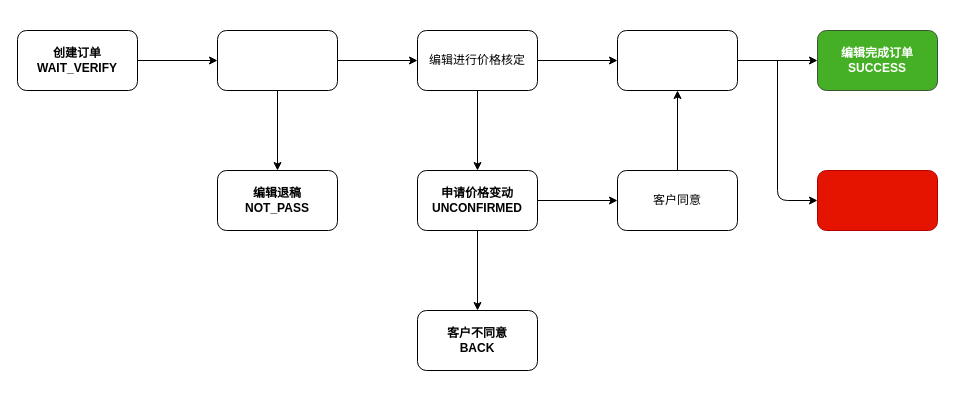
The diagram is 955 pixels wide and 400 high, and some of its shapes have lost their labels. Here are the shapes that lost their labels. From the top down, the centre of each, then its label:
At point 277,60: "编辑核定内容".
At point 677,60: "编辑进行订单处理 WAIT_PUBLISH".
At point 877,200: "编辑未完成订单 BACK".
